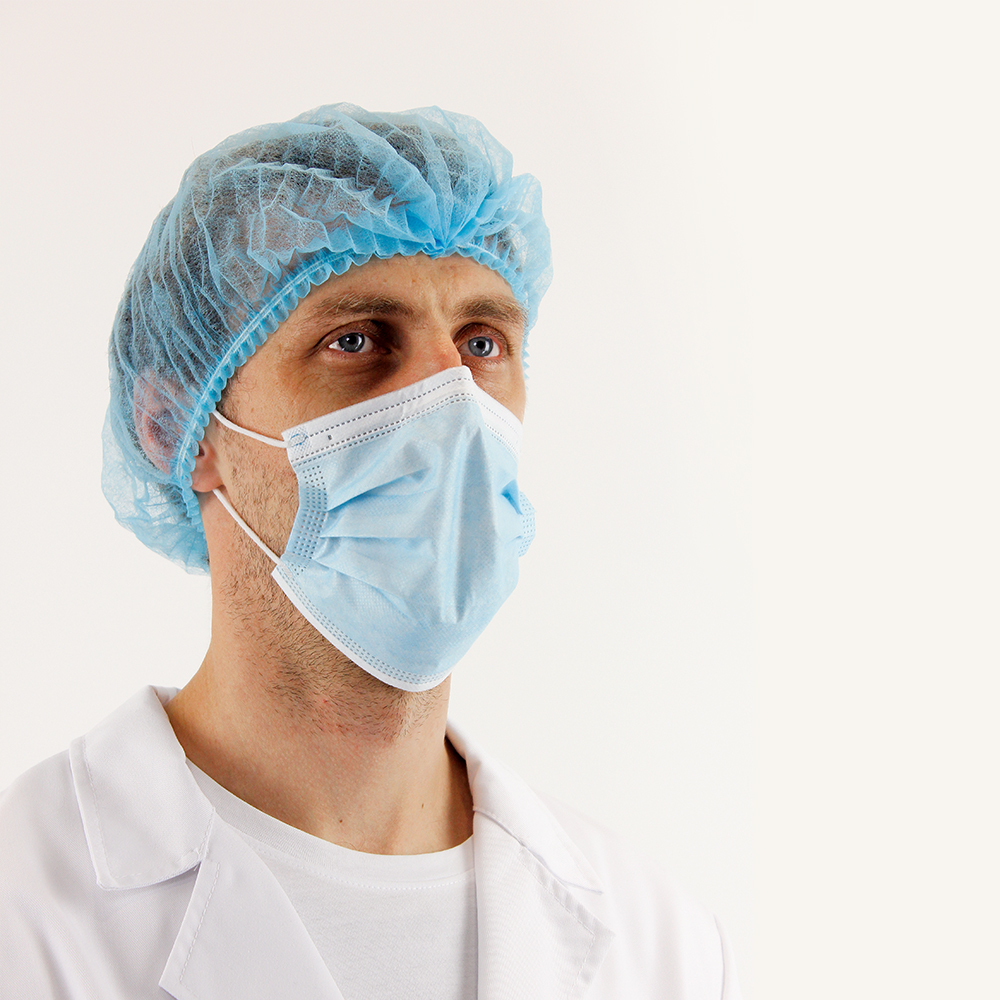with_mask_and_cap: (103, 110, 532, 698)
